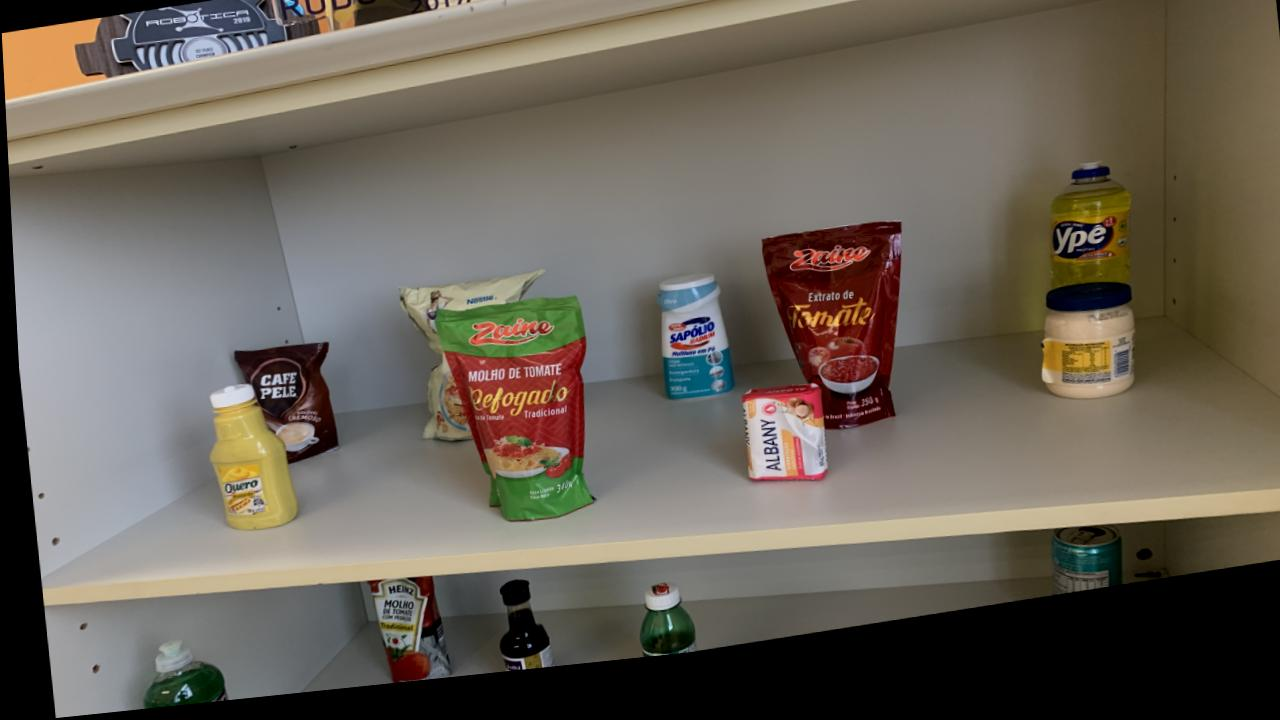Cleaner-Cleanup_Items: (653, 289, 729, 414)
Coffee-Pantry_Items: (230, 349, 333, 469)
Detergent-Cleanup_Items: (1047, 185, 1128, 310), (134, 645, 220, 711)
English_Sauce-Pantry_Items: (492, 591, 546, 682)
Flakes-Snacks: (394, 282, 539, 450)
Guarana-Drinks: (631, 596, 688, 670)
Mayonnaise-Pantry_Items: (1035, 305, 1130, 423)
Mustard-Pantry_Items: (204, 388, 291, 535)
Soap-Cleanup_Items: (736, 401, 821, 497)
Tea-Drinks: (1043, 548, 1115, 617)
Tomato_Sauce-Pantry_Items: (432, 308, 586, 532), (758, 240, 898, 448), (361, 584, 443, 691)
